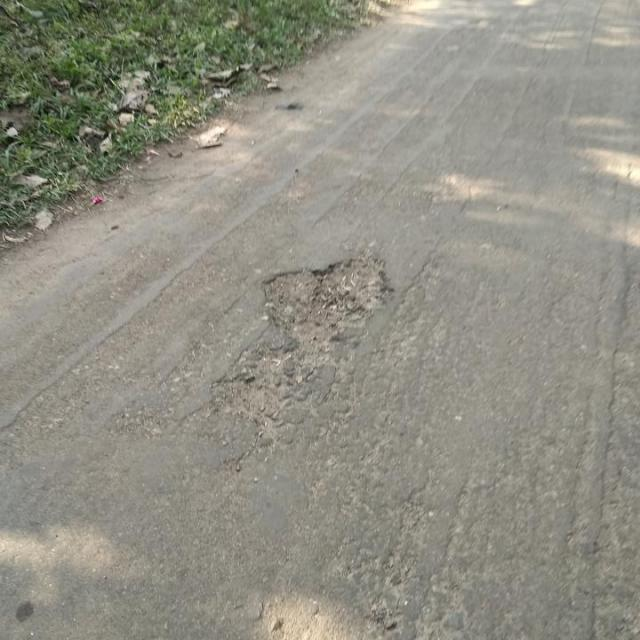pothole: (251, 252, 398, 344), (205, 343, 295, 437)
